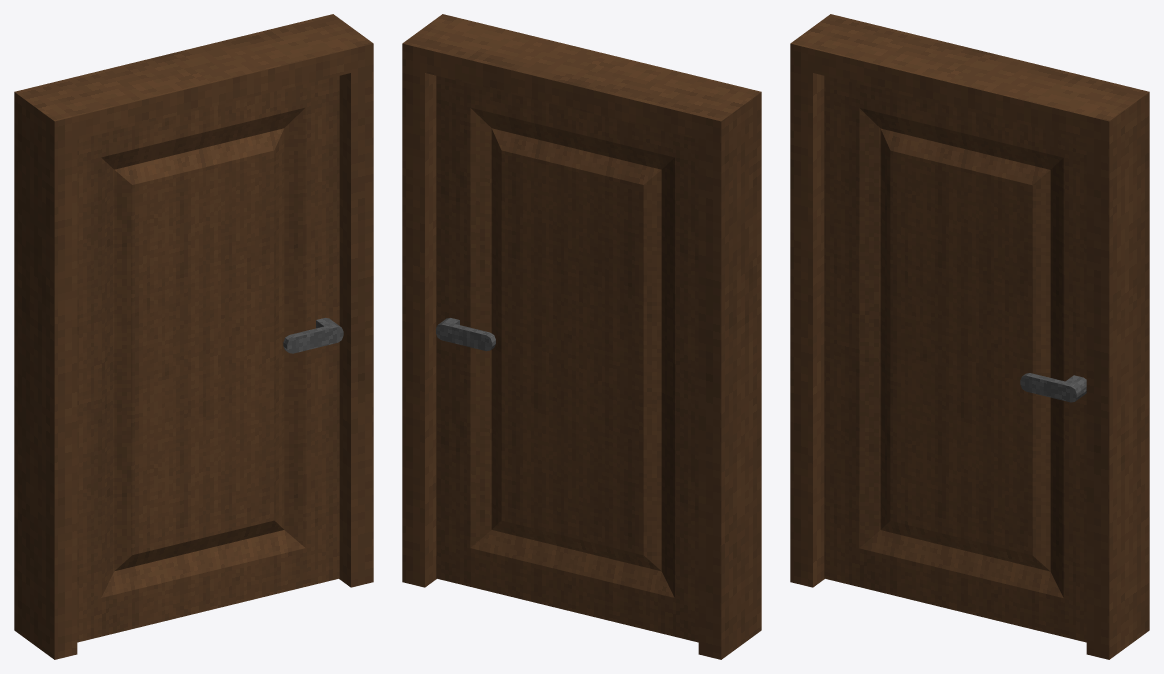
Rendered from WoodenDoor.fbx.
The picture shows the model from 3 angles, left to right: view 1: azimuth 30°, elevation 25°; view 2: azimuth 150°, elevation 25°; view 3: azimuth 330°, elevation 25°; orthographic projection.
Visible parts, largest first — view 1: WoodenDoor, WoodenFrame; view 2: WoodenDoor, WoodenFrame; view 3: WoodenDoor, WoodenFrame.
Part boxes in pixels (x1,y1,x2,y2): WoodenDoor: (77,76,343,642); WoodenFrame: (14,14,373,659); WoodenDoor: (436,76,698,642); WoodenFrame: (402,14,761,659); WoodenDoor: (824,76,1086,642); WoodenFrame: (790,14,1149,659).
Bounding box in the file's own units: 94.67 × 153 × 21.42.
